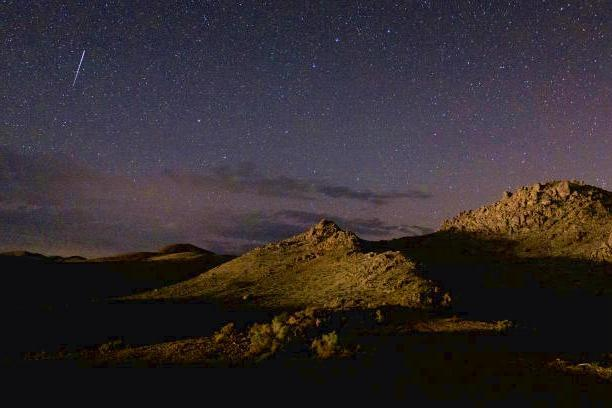meteorite: (66, 40, 99, 100)
